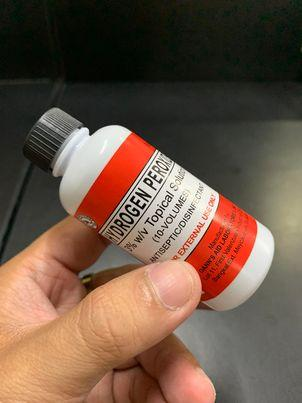-Bottle-: (22, 107, 275, 313)
